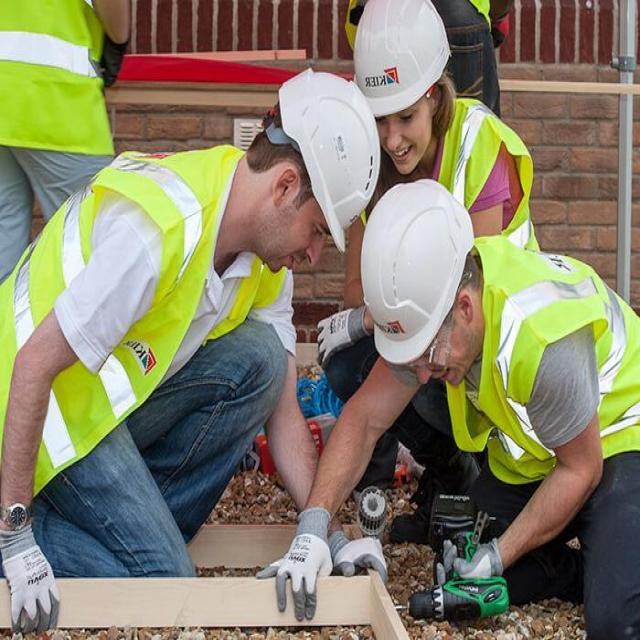Reflective-Jacket: (4, 147, 232, 483), (474, 245, 640, 473), (1, 1, 119, 156), (433, 102, 538, 246)
Safety-Helmet: (358, 178, 473, 362), (274, 62, 382, 254), (348, 2, 452, 118)
